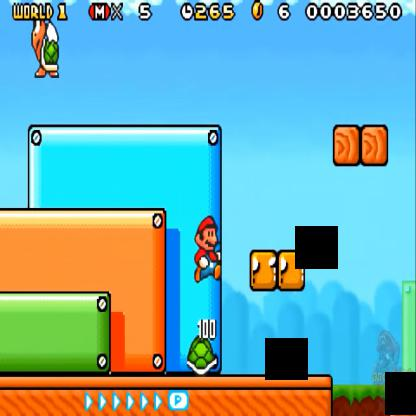Mario: (192, 216, 223, 284)
caparazon: (186, 337, 219, 377)
koopa: (28, 13, 64, 79)
moneda: (250, 0, 265, 25)
